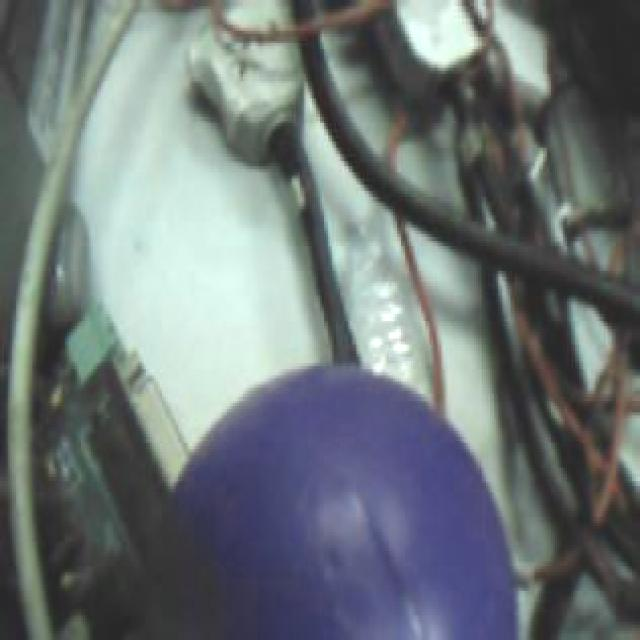BallPurple: (158, 364, 519, 640)
